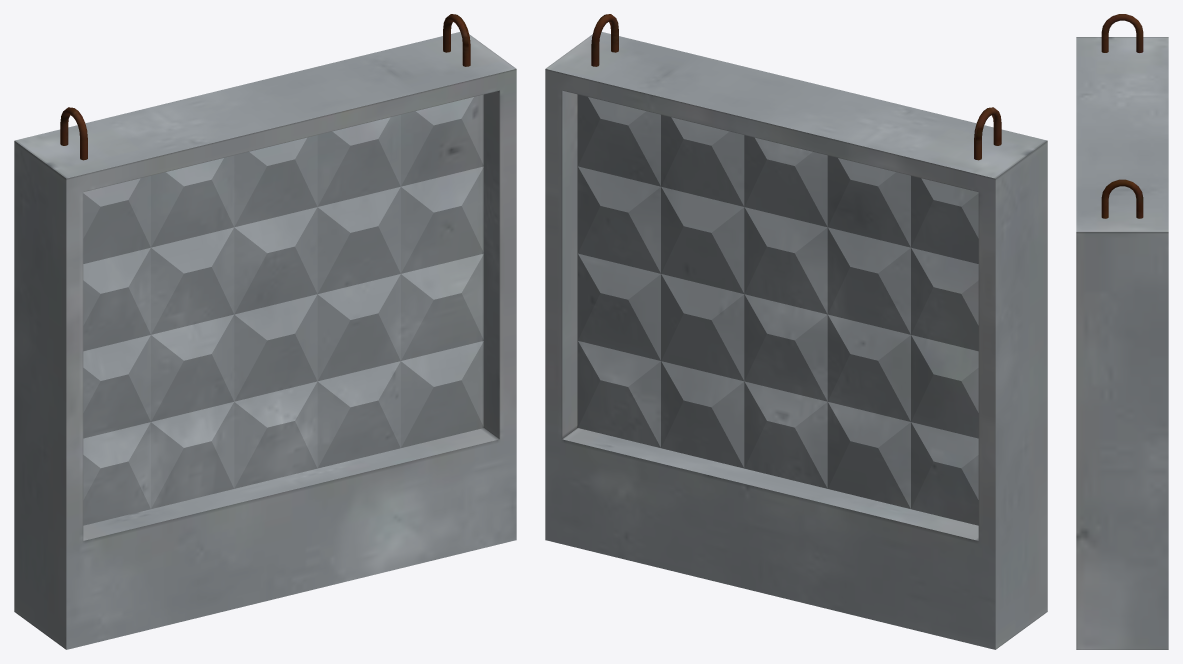
File: fpanel_470.glb
The picture shows the model from 3 angles, left to right: view 1: azimuth 30°, elevation 25°; view 2: azimuth 150°, elevation 25°; view 3: azimuth 270°, elevation 25°; orthographic projection. The views are drawn at different scales.
Parts seen in each view (by area): view 1: fpanel_470; view 2: fpanel_470; view 3: fpanel_470.
Part boxes in pixels (x1,y1,x2,y2): fpanel_470: (14,14,516,649); fpanel_470: (545,14,1047,649); fpanel_470: (1076,14,1168,649).
Bounding box in the file's own units: 1.47 × 1.6 × 0.294.
1 material, 1 textured.
